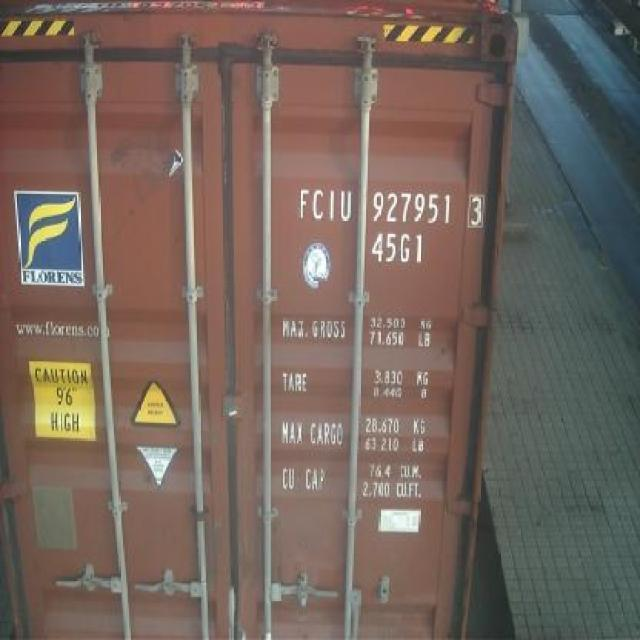ISO: (371, 232, 426, 262)
container_number: (300, 190, 478, 226)
